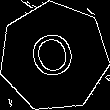O_S: (26, 26, 82, 87)
